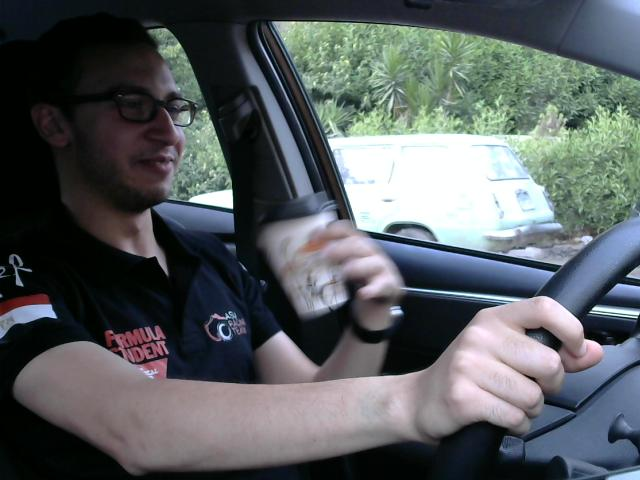Drinking: (251, 188, 357, 323)
